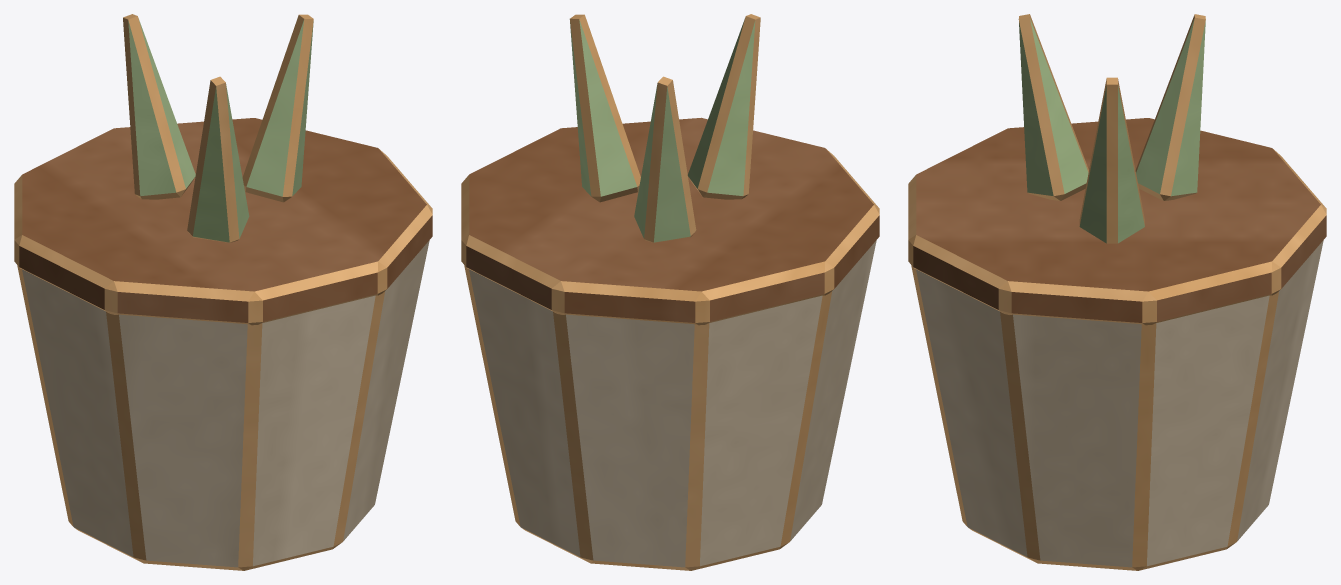
Rendered from sm_prop_flower_pot.glb.
The picture shows the model from 3 angles, left to right: view 1: azimuth 30°, elevation 25°; view 2: azimuth 150°, elevation 25°; view 3: azimuth 270°, elevation 25°; orthographic projection.
Visible parts, largest first — view 1: sm_prop_flower_pot; view 2: sm_prop_flower_pot; view 3: sm_prop_flower_pot.
Boxes of the visible parts, box(x1,y1,x2,y2) form: sm_prop_flower_pot: box(14, 14, 432, 570); sm_prop_flower_pot: box(461, 14, 879, 570); sm_prop_flower_pot: box(908, 14, 1326, 570).
Bounding box in the file's own units: 0.2153 × 0.2639 × 0.212.
1 material, 1 textured.
